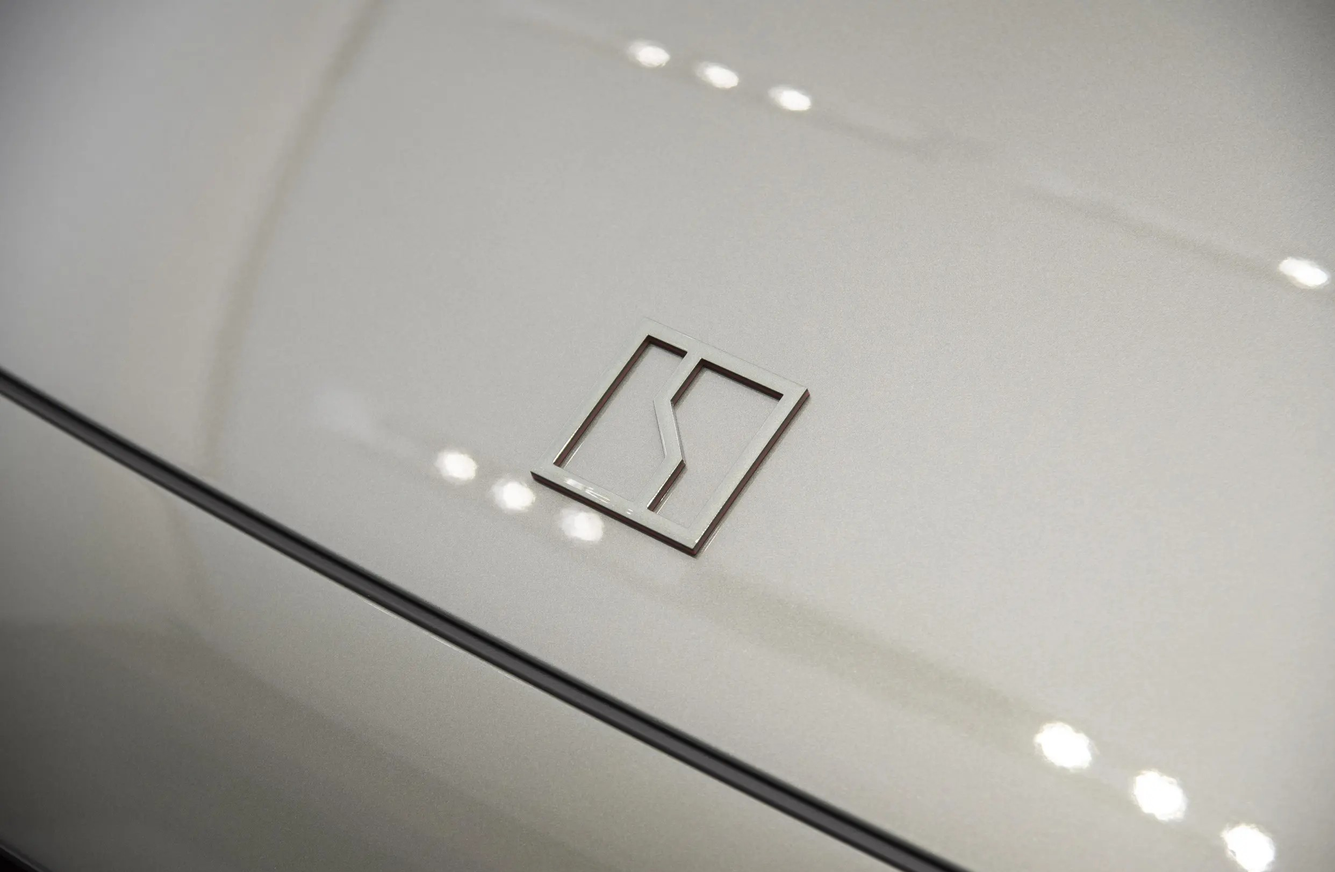ZEEKR: (531, 316, 809, 554)
